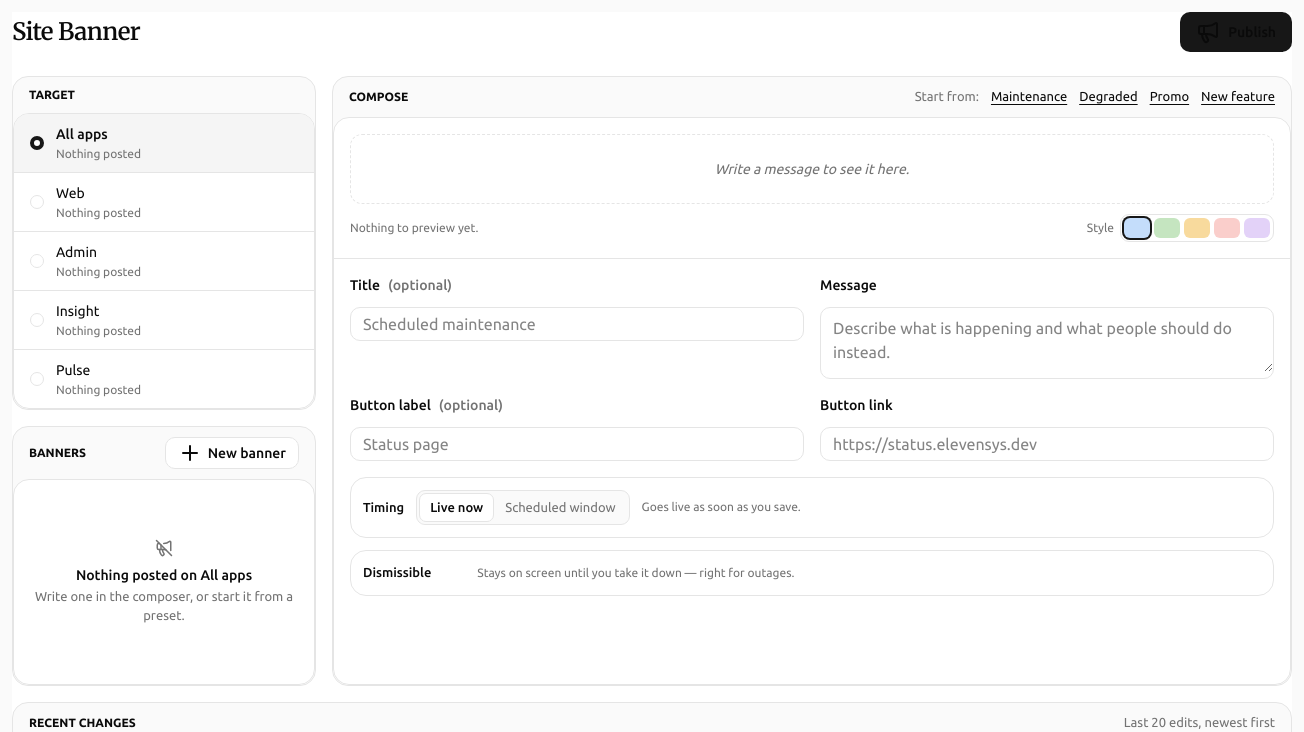
Scenario: SiteBannerForm › fills the form from a preset
Click the button "Degraded": (1108, 97) [1079,87,1138,106]
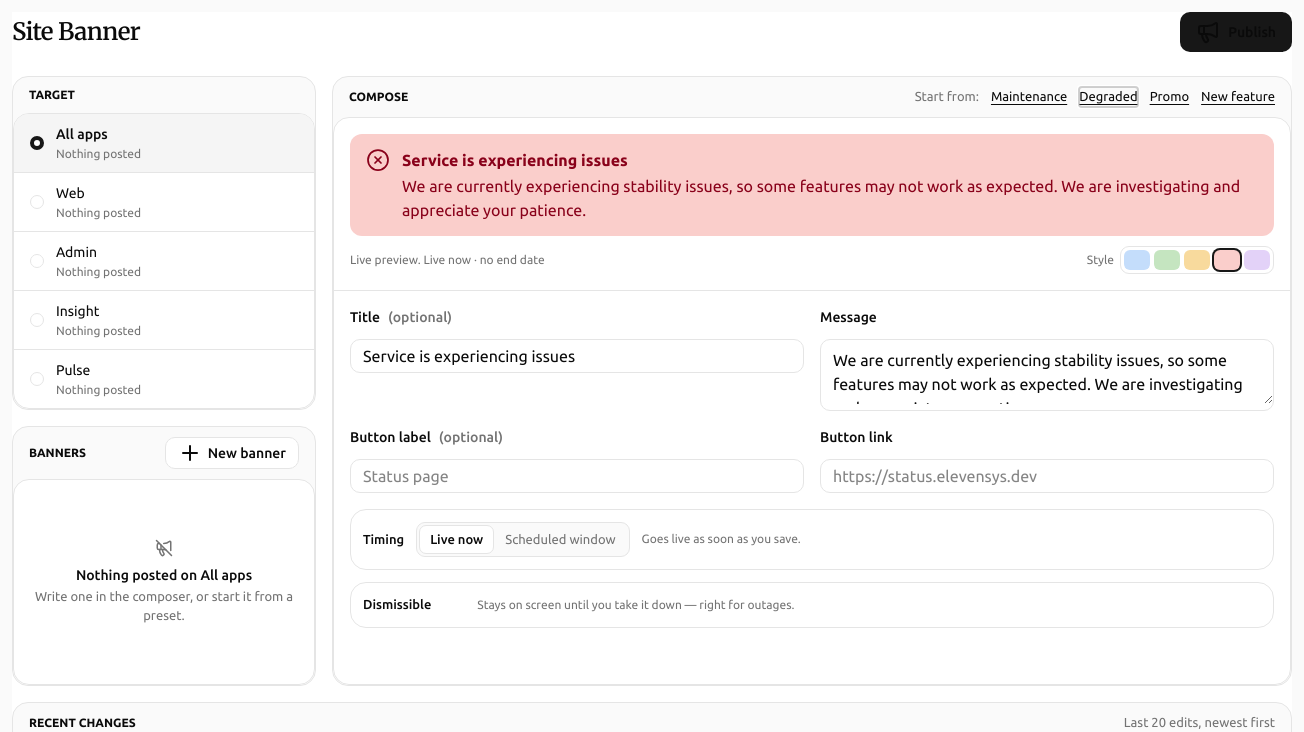
Check: the field labelled "Title (optional)" holds "Service is experiencing issues", box [350,338,804,372]
Check: the radio button named "Error" is checked, box [1214,250,1240,270]
